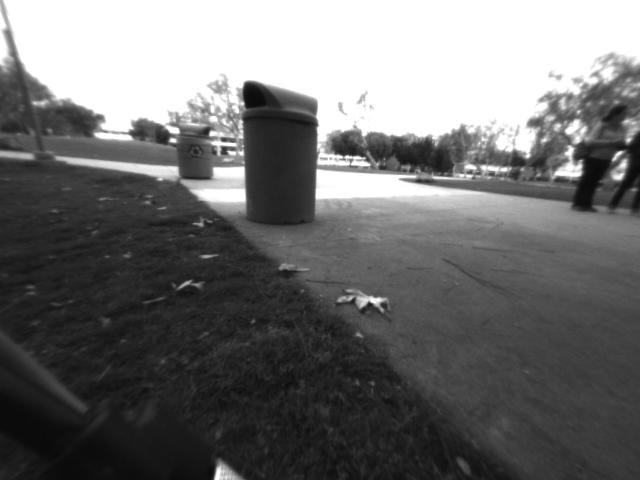trashcan: (240, 78, 322, 226)
